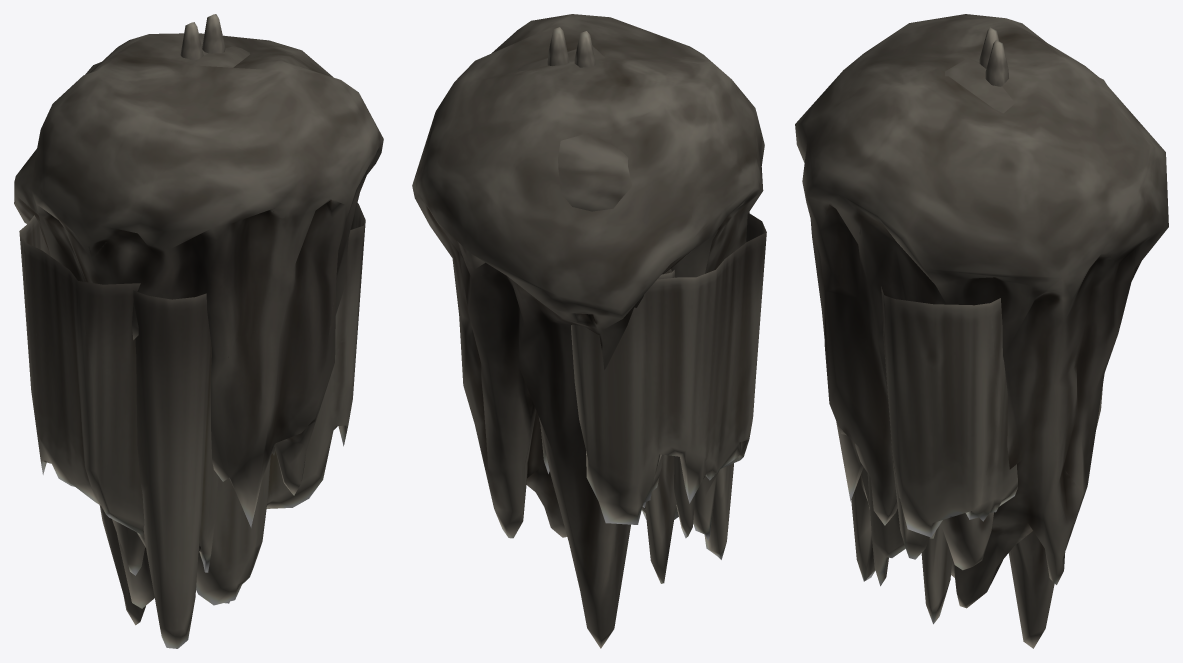
Rendered from Stalactites2.FBX.
3 renders of one model, left to right at view 1: azimuth 30°, elevation 25°; view 2: azimuth 150°, elevation 25°; view 3: azimuth 270°, elevation 25°, orthographic. The views are drawn at different scales.
Parts seen in each view (by area): view 1: StalactitR1, StalactitStrip3, StalactitStrip2, StalactitR2, Object007, Object; view 2: StalactitR1, StalactitStrip3, StalactitR2, StalactitStrip2, Object007, Object; view 3: StalactitR1, StalactitStrip3, StalactitStrip1, StalactitStrip2, StalactitR2, Object007.
Boxes of the visible parts, left/top/right/bottom form: StalactitR1: left=14, top=33, right=383, bottom=625; StalactitStrip3: left=19, top=203, right=365, bottom=605; StalactitStrip2: left=133, top=290, right=218, bottom=648; StalactitR2: left=85, top=46, right=275, bottom=608; Object007: left=202, top=14, right=225, bottom=53; Object: left=180, top=22, right=203, bottom=59; StalactitR1: left=412, top=14, right=764, bottom=648; StalactitStrip3: left=540, top=213, right=766, bottom=540; StalactitR2: left=518, top=46, right=676, bottom=583; StalactitStrip2: left=642, top=212, right=749, bottom=559; Object007: left=547, top=27, right=569, bottom=65; Object: left=574, top=31, right=595, bottom=67; StalactitR1: left=795, top=14, right=1168, bottom=648; StalactitStrip3: left=867, top=286, right=1102, bottom=586; StalactitStrip1: left=921, top=523, right=952, bottom=624; StalactitStrip2: left=851, top=467, right=875, bottom=581; StalactitR2: left=945, top=58, right=1107, bottom=577; Object007: left=985, top=40, right=1008, bottom=86.
Bounding box in the file's own units: 124 × 231 × 122.
